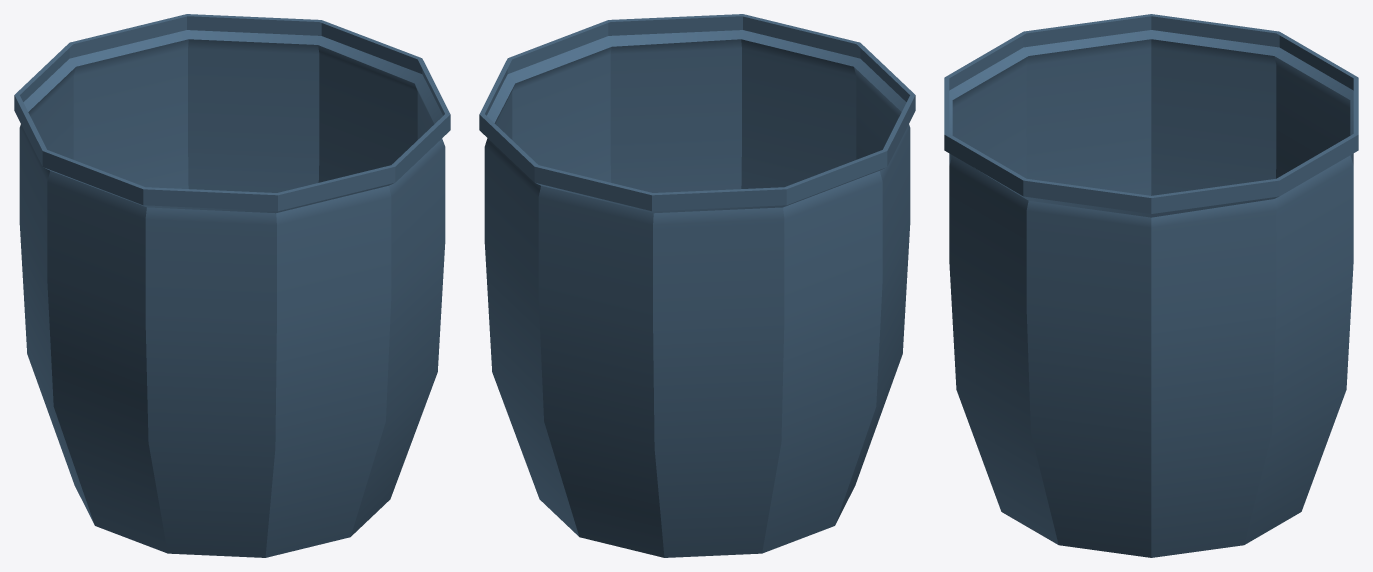
File: Bow_HowPlant.fbx
3 renders of one model, left to right at view 1: azimuth 30°, elevation 25°; view 2: azimuth 150°, elevation 25°; view 3: azimuth 270°, elevation 25°, orthographic.
Parts seen in each view (by area): view 1: Plant2:pCylinder1; view 2: Plant2:pCylinder1; view 3: Plant2:pCylinder1.
Part boxes in pixels (x1,y1,x2,y2): Plant2:pCylinder1: [14, 14, 450, 557]; Plant2:pCylinder1: [479, 14, 915, 557]; Plant2:pCylinder1: [944, 14, 1358, 557].
Bounding box in the file's own units: 3.46 × 3.37 × 3.29.
